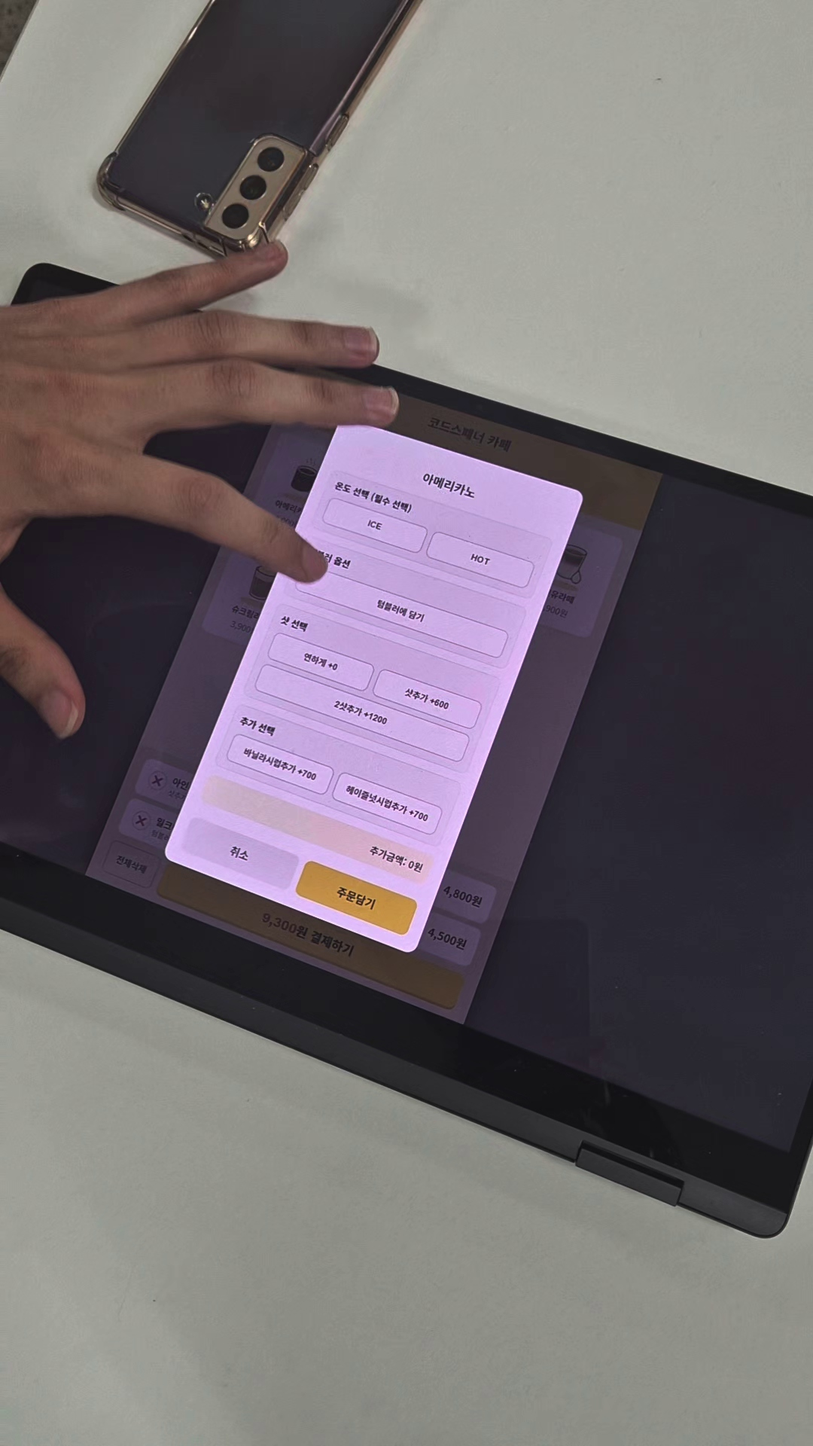action_button: (180, 816, 302, 892), (295, 864, 420, 937)
menu_name: (412, 463, 490, 509)
option_button: (253, 665, 473, 766), (293, 561, 508, 661), (330, 767, 446, 840), (226, 732, 339, 802), (268, 629, 377, 695), (373, 666, 485, 730), (427, 530, 535, 590), (324, 493, 427, 551)
